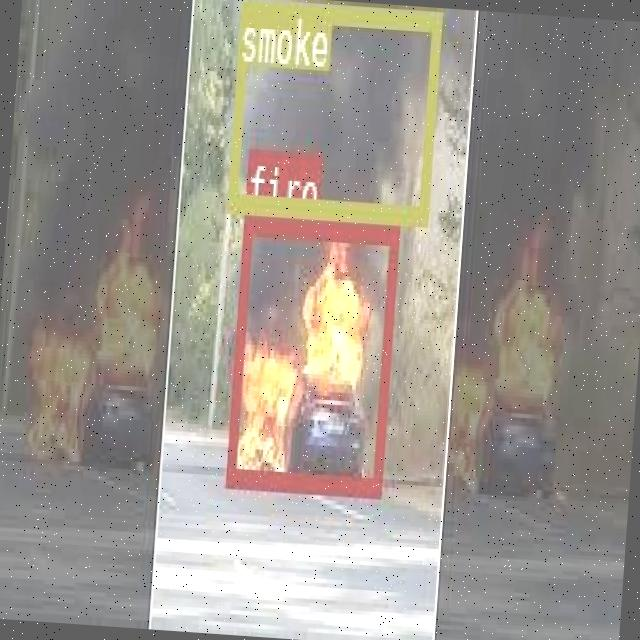fire: (224, 212, 398, 493)
smoke: (226, 0, 440, 222)
